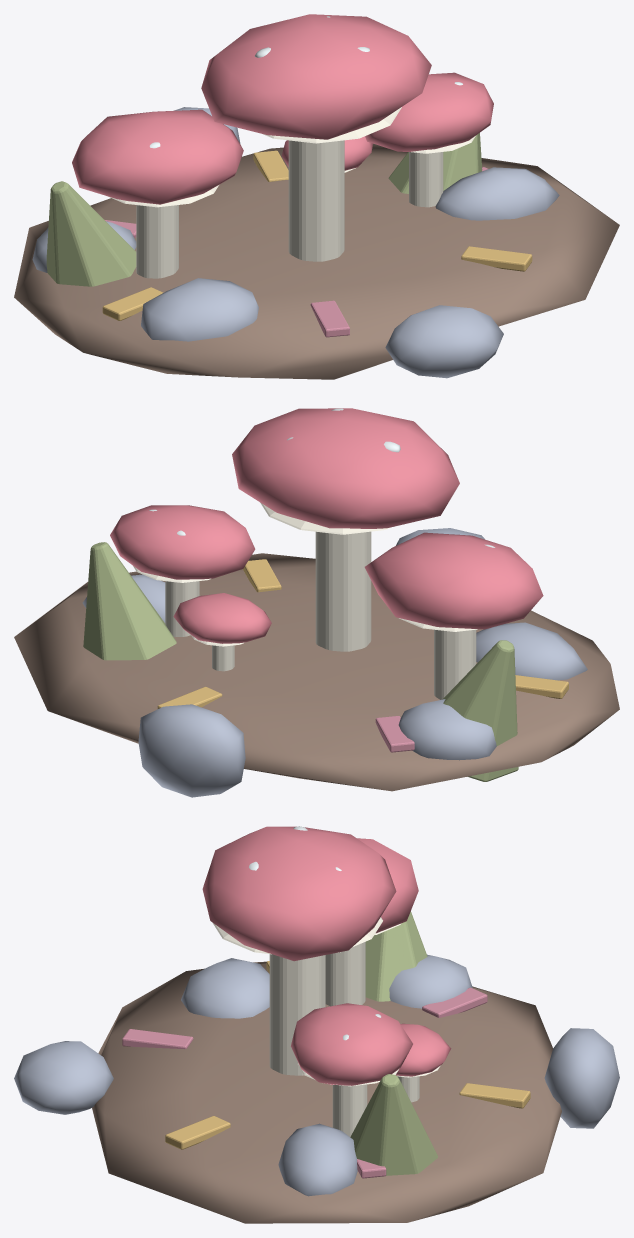
The model's file is northern_mushrooms_red.glb.
The picture shows the model from 3 angles, top to bottom: view 1: azimuth 30°, elevation 25°; view 2: azimuth 150°, elevation 25°; view 3: azimuth 270°, elevation 25°; orthographic projection.
Parts seen in each view (by area): view 1: northern_mushrooms_red.001; view 2: northern_mushrooms_red.001; view 3: northern_mushrooms_red.001.
Boxes of the visible parts, left/top/right/bottom form: northern_mushrooms_red.001: left=14, top=14, right=619, bottom=379; northern_mushrooms_red.001: left=14, top=408, right=619, bottom=797; northern_mushrooms_red.001: left=14, top=826, right=619, bottom=1223.
Bounding box in the file's own units: 5.3 × 2.63 × 5.2.
